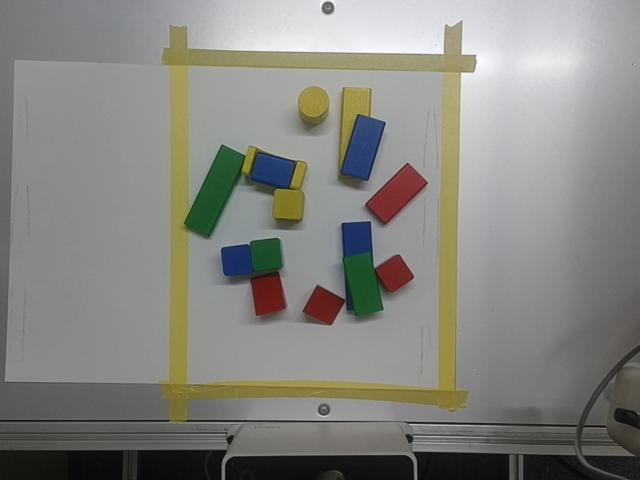blue_cube: (221, 244, 252, 276)
blue_rect: (341, 115, 385, 180)
cylinder: (298, 86, 328, 125)
green_cube: (249, 238, 282, 273)
green_longrect: (184, 145, 245, 236)
green_rect: (343, 253, 383, 316)
half_cylinder: (251, 152, 295, 188)
red_cube: (376, 255, 413, 292)
red_rect: (366, 164, 427, 223)
triangle: (303, 285, 344, 324), (251, 272, 286, 315)
yellow_archrect: (242, 146, 267, 177), (289, 160, 307, 190)
yellow_cube: (273, 189, 303, 221)
